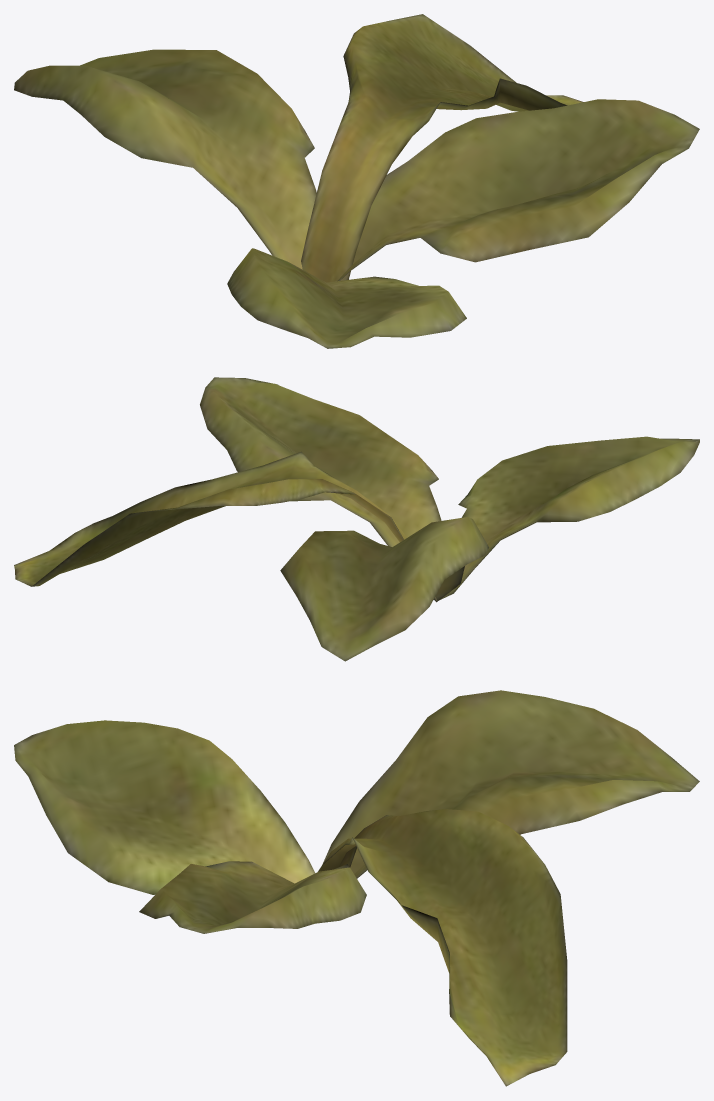
File: crystalline_iceplant_b.gltf
The picture shows the model from 3 angles, top to bottom: view 1: azimuth 30°, elevation 25°; view 2: azimuth 150°, elevation 25°; view 3: azimuth 270°, elevation 25°; orthographic projection. The views are drawn at different scales.
Parts seen in each view (by area): view 1: crystalline_iceplant_h_LOD0; view 2: crystalline_iceplant_h_LOD0; view 3: crystalline_iceplant_h_LOD0.
Part boxes in pixels (bbox=[...]): crystalline_iceplant_h_LOD0: bbox=[14, 14, 699, 348]; crystalline_iceplant_h_LOD0: bbox=[14, 377, 699, 661]; crystalline_iceplant_h_LOD0: bbox=[14, 690, 699, 1086].
Size of the model in its own units: 0.0537 by 0.0166 by 0.0587.
1 material, 1 textured.
